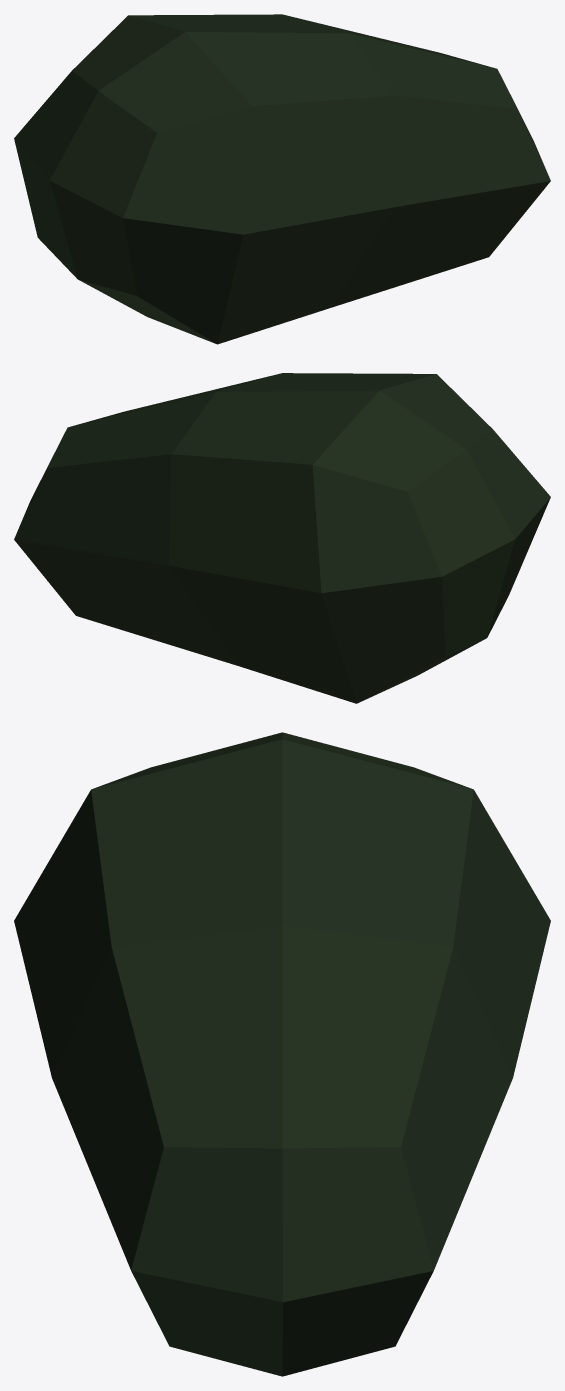
File: avocado.fbx
3 views of the same model, one above another, from view 1: azimuth 30°, elevation 25°; view 2: azimuth 150°, elevation 25°; view 3: azimuth 270°, elevation 25° (orthographic). The views are drawn at different scales.
Parts seen in each view (by area): view 1: avocado; view 2: avocado; view 3: avocado.
Part boxes in pixels (x1,y1,x2,y2): avocado: (14,14,550,344); avocado: (14,373,550,703); avocado: (14,732,550,1376).
Bounding box in the file's own units: 19.7 × 10.74 × 12.27.
1 material, 1 textured.
